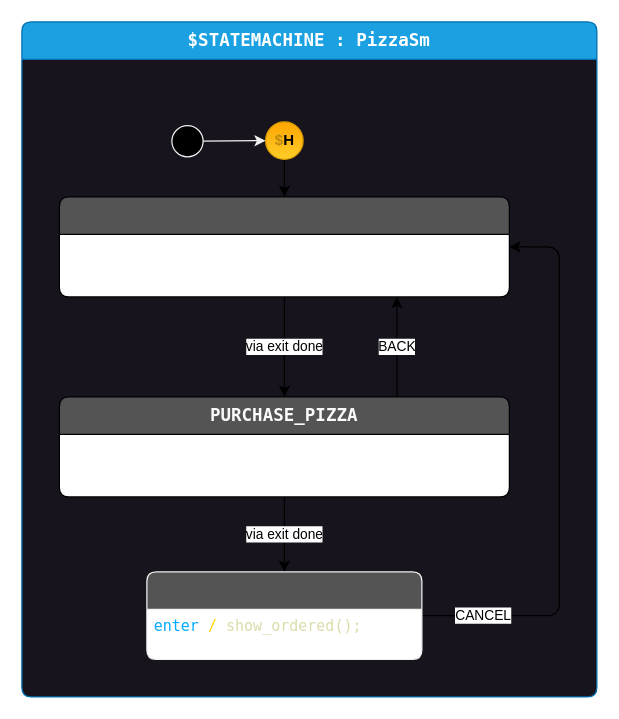
Some shapes in this 619 by 719 pixel diagram are drawn without their labels. Each missing label, with the box of its shape:
BUILD_A_PIZZA: (58, 196, 509, 297)
PIZZA_ORDERED: (146, 571, 422, 659)
